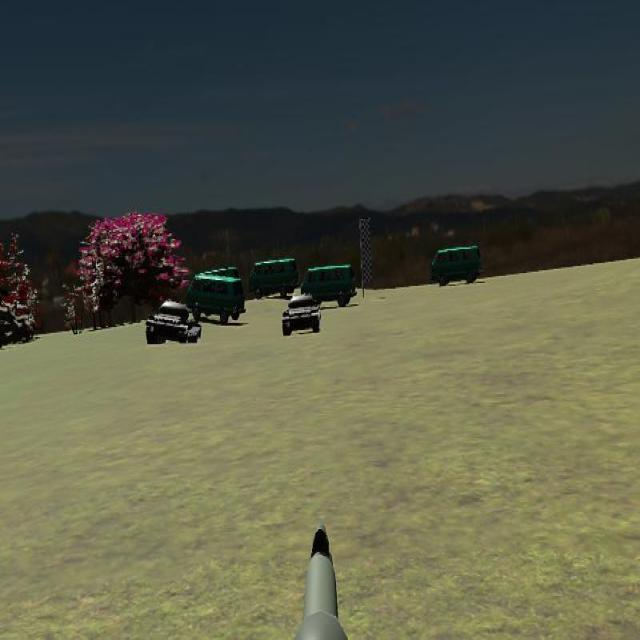Tank: (145, 297, 201, 347), (281, 291, 321, 336)
car: (187, 272, 245, 324), (302, 263, 356, 308), (249, 257, 299, 301), (431, 244, 481, 287)
